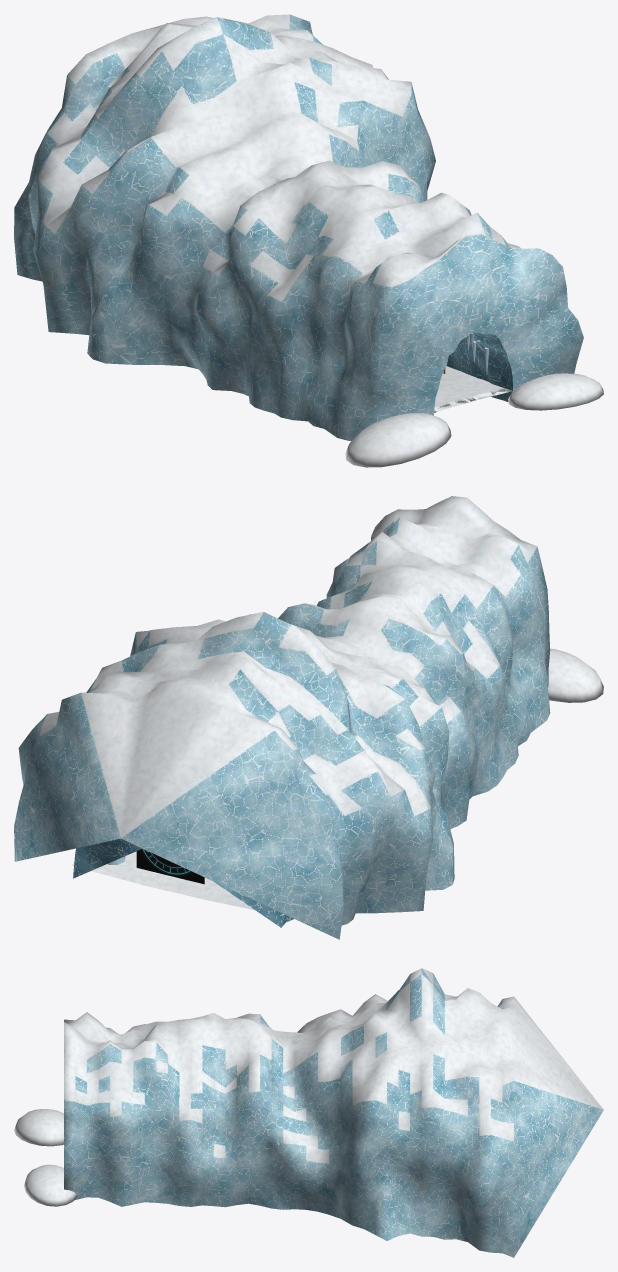
Rendered from ice_cave.glb.
3 renders of one model, top to bottom at view 1: azimuth 30°, elevation 25°; view 2: azimuth 150°, elevation 25°; view 3: azimuth 270°, elevation 25°, orthographic. The views are drawn at different scales.
Parts seen in each view (by area): view 1: cave_exterior, cave_interior; view 2: cave_exterior, cave_interior, GLYPH_wall; view 3: cave_exterior.
Part boxes in pixels (x1,y1,x2,y2): cave_exterior: (14,14,603,467); cave_interior: (434,332,512,412); cave_exterior: (14,496,603,939); cave_interior: (71,838,293,927); GLYPH_wall: (136,848,204,884); cave_exterior: (14,968,603,1257).
Size of what is drawn, in the model's own units: 17.7 by 11.81 by 29.5.
3 materials, 3 textured.
